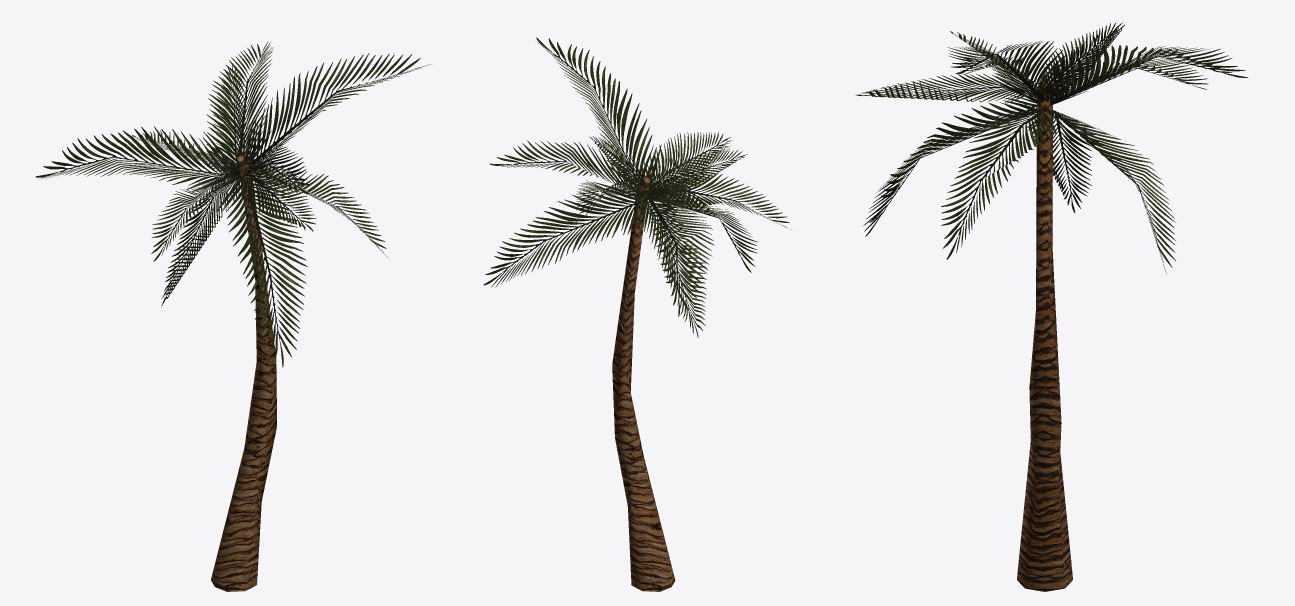
The model's file is PalmTree2.fbx.
The picture shows the model from 3 angles, left to right: view 1: azimuth 30°, elevation 25°; view 2: azimuth 150°, elevation 25°; view 3: azimuth 270°, elevation 25°; orthographic projection. The views are drawn at different scales.
Visible parts, largest first — view 1: Cylinder.001; view 2: Cylinder.001; view 3: Cylinder.001.
Boxes of the visible parts, x1=… form: Cylinder.001: x1=35, y1=41, x2=430, y2=591; Cylinder.001: x1=483, y1=37, x2=789, y2=591; Cylinder.001: x1=855, y1=21, x2=1247, y2=591.
Size of the model in its own units: 171 by 277 by 179.
